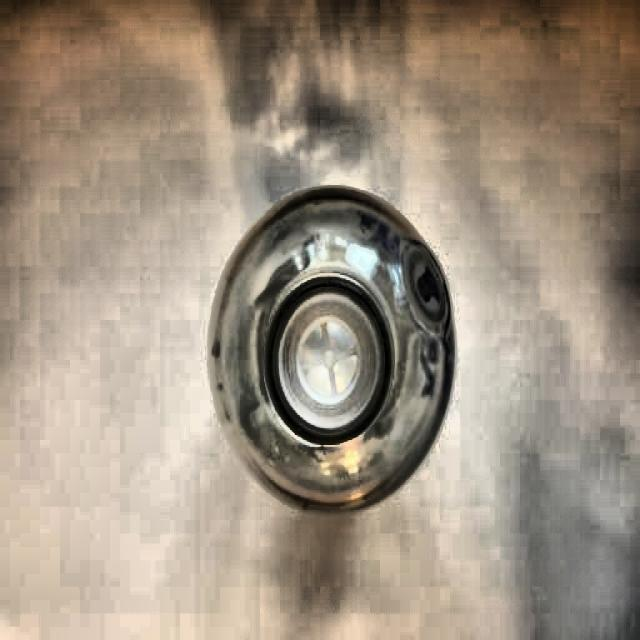glass: (203, 188, 454, 518)
